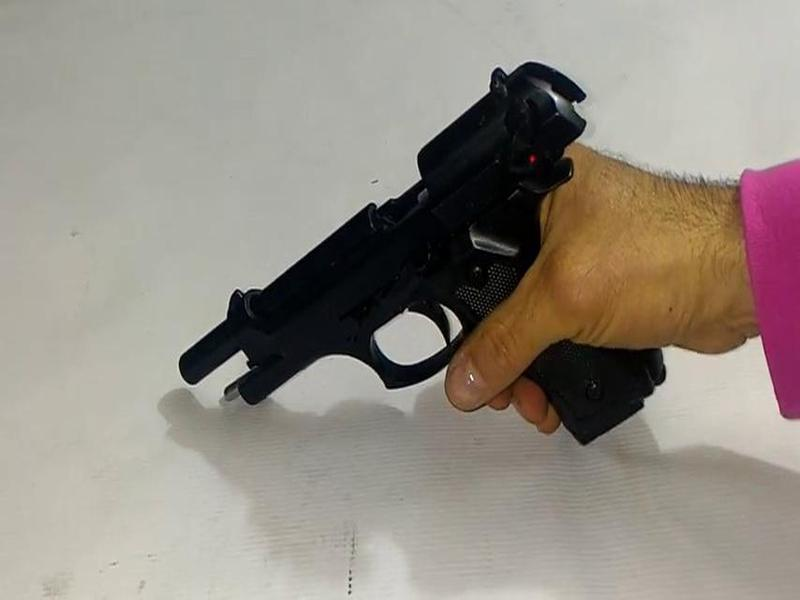Pistola: (173, 43, 708, 511)
